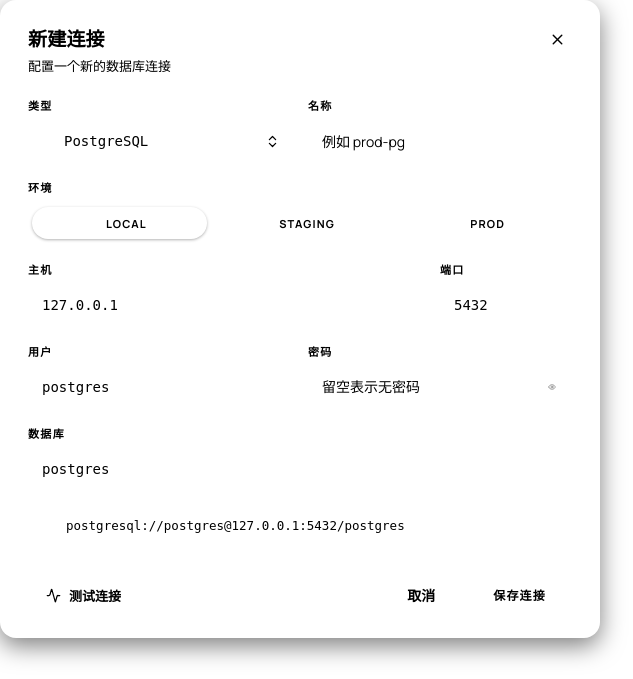
Test: test connection times out after 10s -> error, button clickable again
Click the button "测试连接". click: (84, 595)
box: [28,576,139,614]
Wait 10000 ms
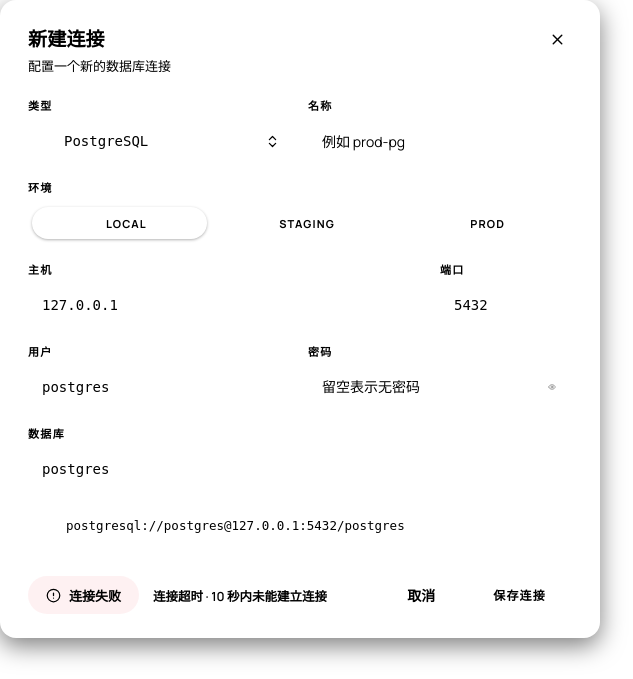
Expected: the button "连接失败" is shown, [28,576,139,614]
Expected: the text "连接超时 · 10 秒内未能建立连接" is shown, [153,586,327,604]
